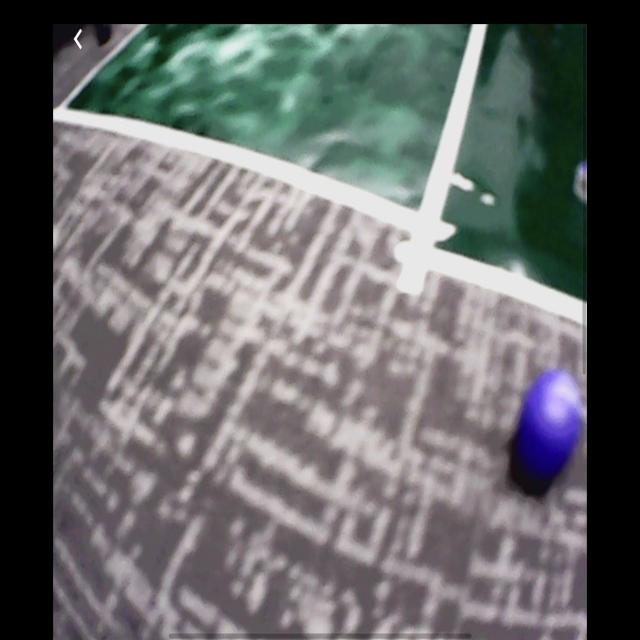ball: (519, 370, 584, 475)
